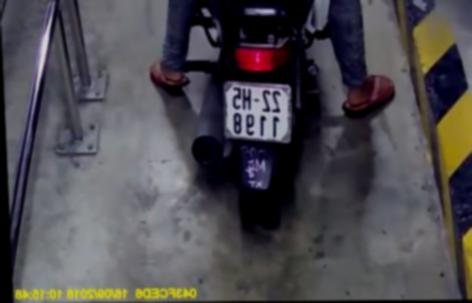License_Plate: (218, 82, 299, 150)
